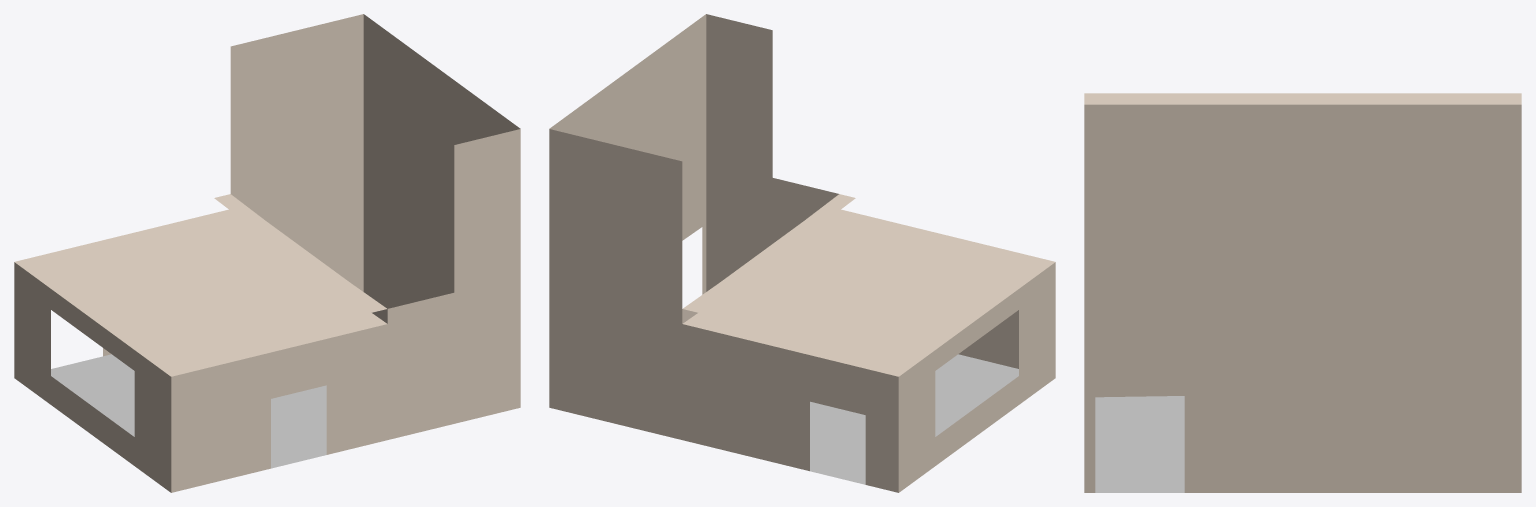
The model's file is Control-Room.obj.
3 renders of one model, left to right at view 1: azimuth 30°, elevation 25°; view 2: azimuth 150°, elevation 25°; view 3: azimuth 270°, elevation 25°, orthographic. The views are drawn at different scales.
Visible parts, largest first — view 1: Control-Room; view 2: Control-Room; view 3: Control-Room.
Boxes of the visible parts, x1=… form: Control-Room: x1=14, y1=14, x2=520, y2=492; Control-Room: x1=549, y1=14, x2=1055, y2=492; Control-Room: x1=1084, y1=93, x2=1521, y2=492.
Size of the model in its own units: 15.75 by 12 by 12.25.
